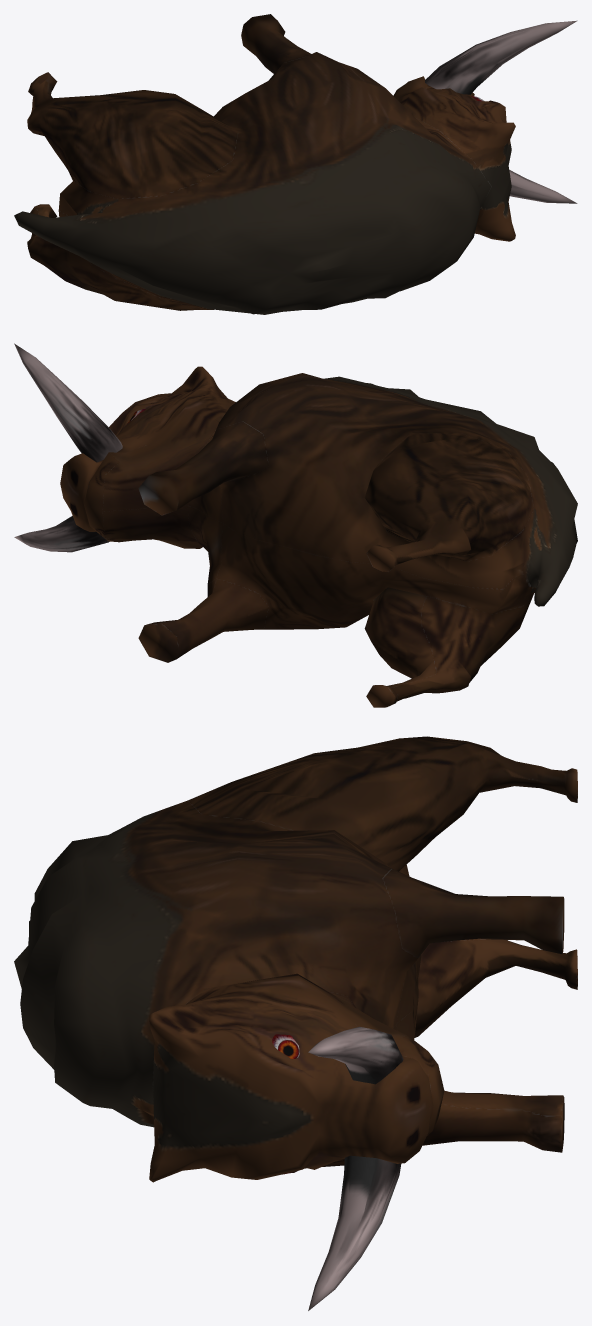
File: boar_000021.obj
3 renders of one model, top to bottom at view 1: azimuth 30°, elevation 25°; view 2: azimuth 150°, elevation 25°; view 3: azimuth 270°, elevation 25°, orthographic. The views are drawn at different scales.
Visible parts, largest first — view 1: body_Plane.001, teeth_Cylinder; view 2: body_Plane.001, teeth_Cylinder; view 3: body_Plane.001, teeth_Cylinder.
Boxes of the visible parts, box(x1,y1,x2,y2) form: body_Plane.001: box(14, 14, 515, 314); teeth_Cylinder: box(425, 20, 577, 203); body_Plane.001: box(60, 366, 577, 707); teeth_Cylinder: box(14, 343, 122, 552); body_Plane.001: box(14, 736, 577, 1182); teeth_Cylinder: box(308, 1026, 403, 1310).
Size of the model in its own units: 2.76 by 1.08 by 1.79.
